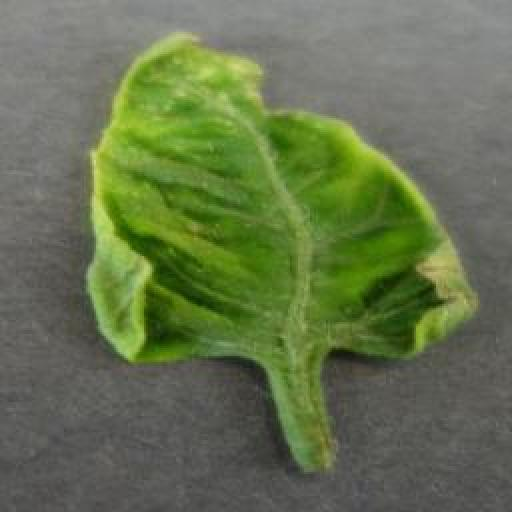Yellow Leaf Curl Virus: (84, 28, 481, 361)
